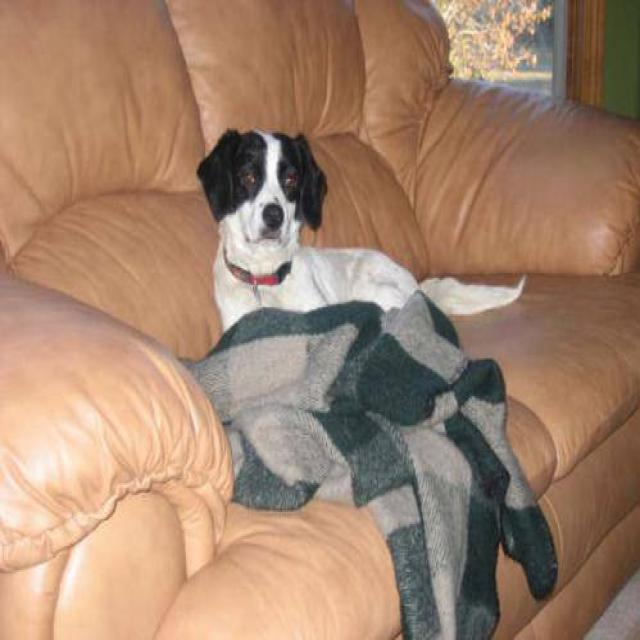dog: (195, 124, 526, 334)
